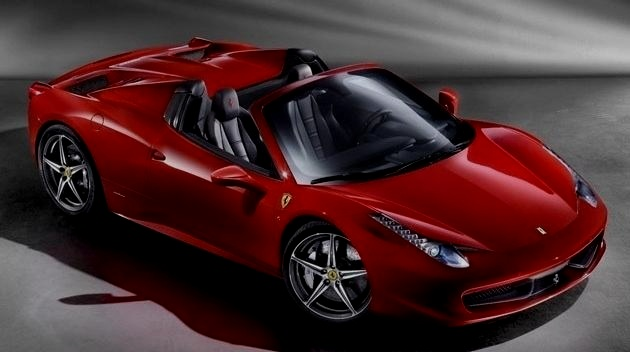car: (8, 27, 629, 345)
